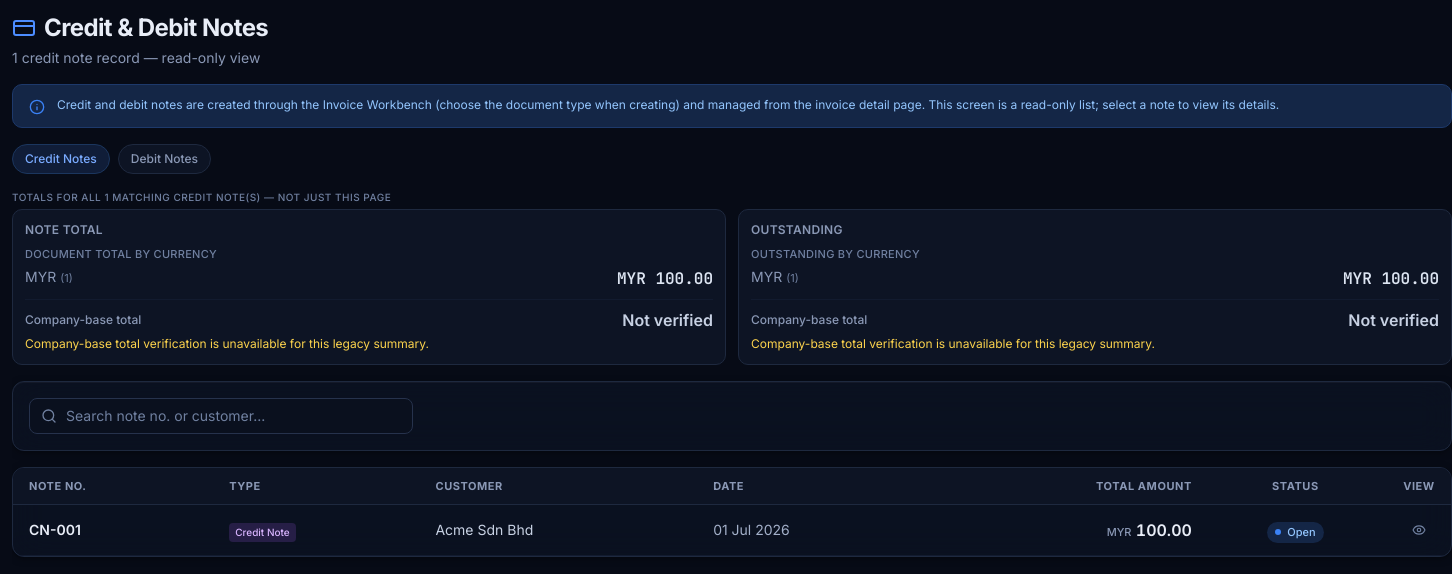
Test case: Credit / Debit Notes page › switches to Debit Note as a server-side filter
Expected: the text "CN-001" is shown, top-left (13, 504), bottom-right (217, 556)
Click the button "Debit Notes" at point(164, 159), box top-left (118, 144), bottom-right (211, 174)
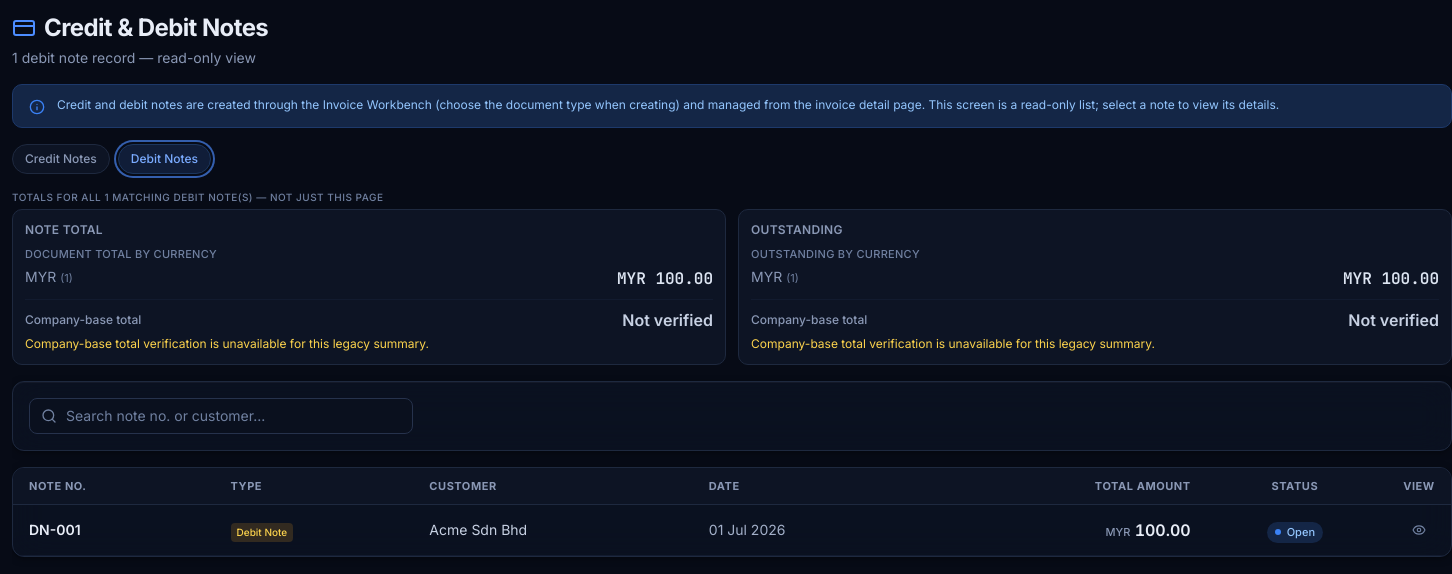
Now the text "DN-001" is shown, box top-left (13, 504), bottom-right (218, 556)
